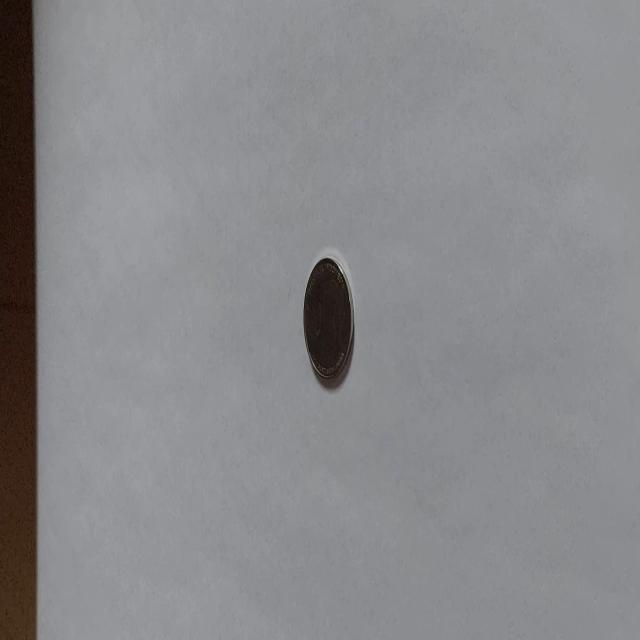seribu rupiah koin: (302, 253, 354, 383)
